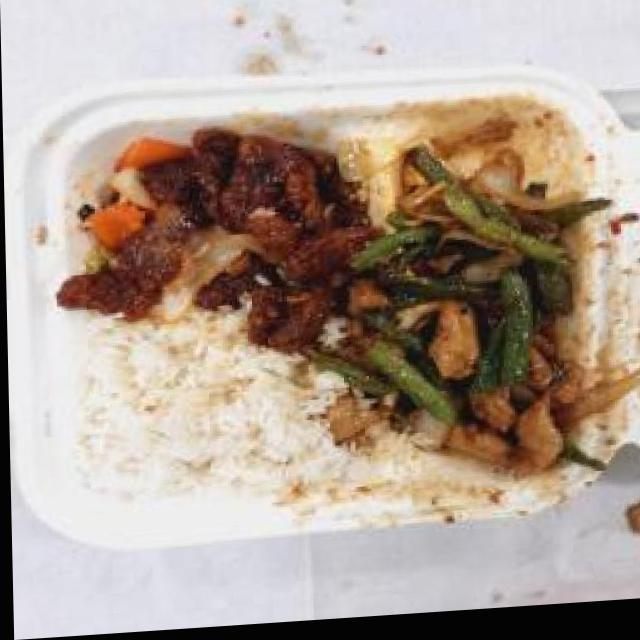Beijing Beef: (52, 121, 364, 345)
String Bean Chicken Breast: (348, 155, 587, 485)
White Steamed Rice: (71, 318, 332, 512)
